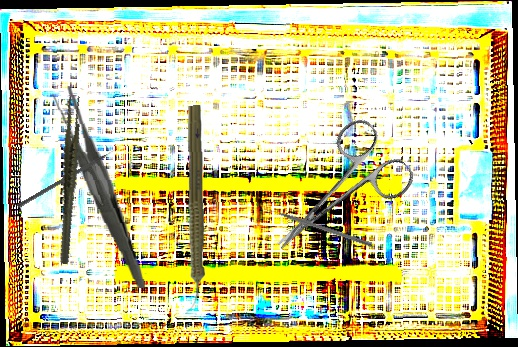Dressing Forceps: (51, 81, 146, 294)
Handpiece: (179, 105, 209, 314)
Hook Surgical: (16, 145, 122, 210), (262, 204, 373, 248)
Iris Scissors: (247, 112, 420, 278)
Tissue Forceps: (29, 94, 109, 265)
